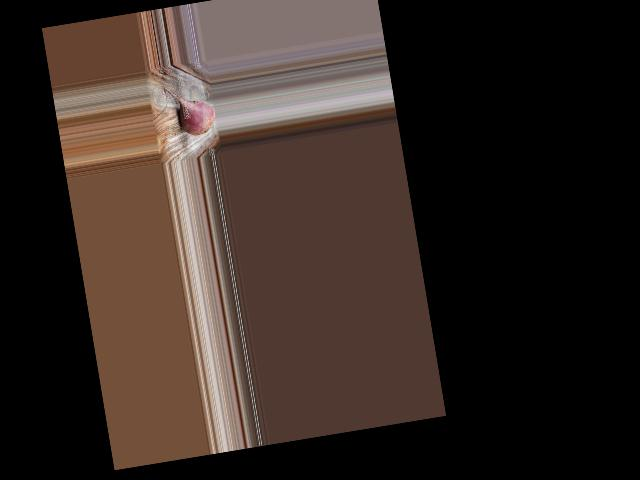beet: (163, 79, 217, 139)
